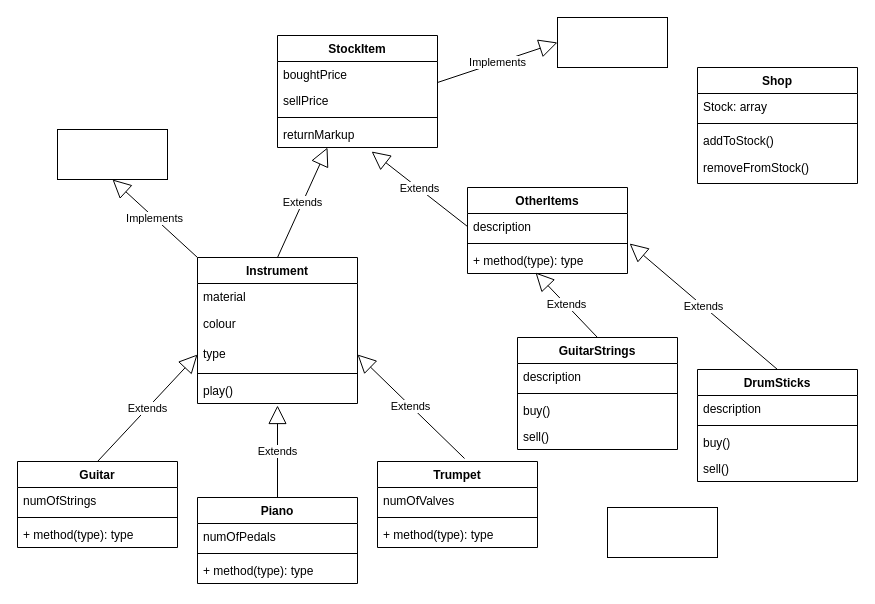
This 875x604 diagram has some shape labels left out. Each missing label, with the centre of its shape:
"«enum» InstrumentTypes" goes at (662,532).
"«interface» Play" goes at (112,154).
"«interface» Sell" goes at (612,42).
